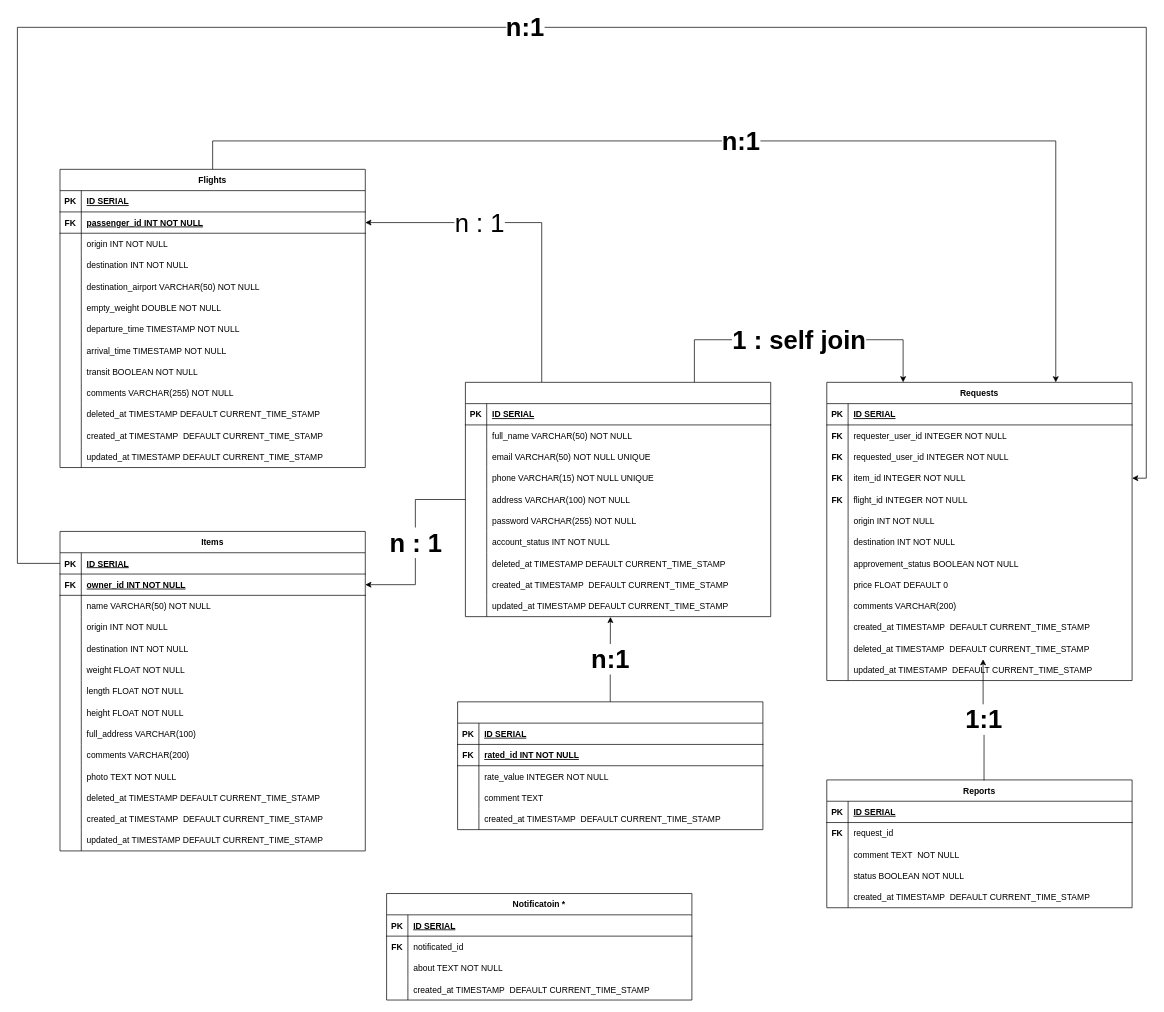
The diagram is 1164 pixels wide and 1012 high, and some of its shapes have lost their labels. The shapes that lost their labels are listed below. From the top down, each one's box as (x1, y1, x2, y2) in pixels, then its label:
(465, 382, 771, 617): Persons
(457, 701, 763, 830): Rates
